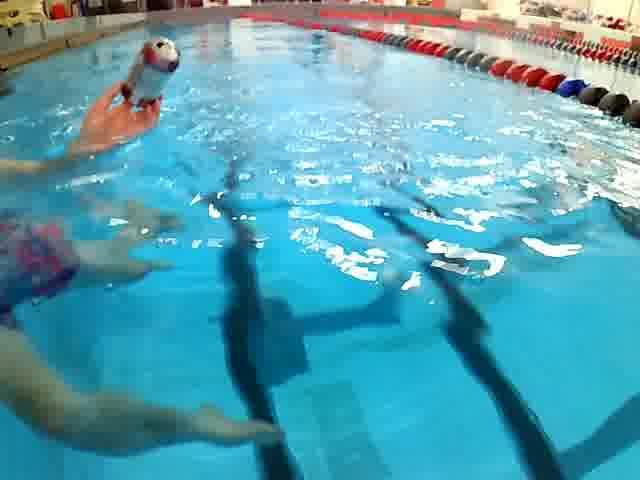Can: (116, 32, 189, 110)
